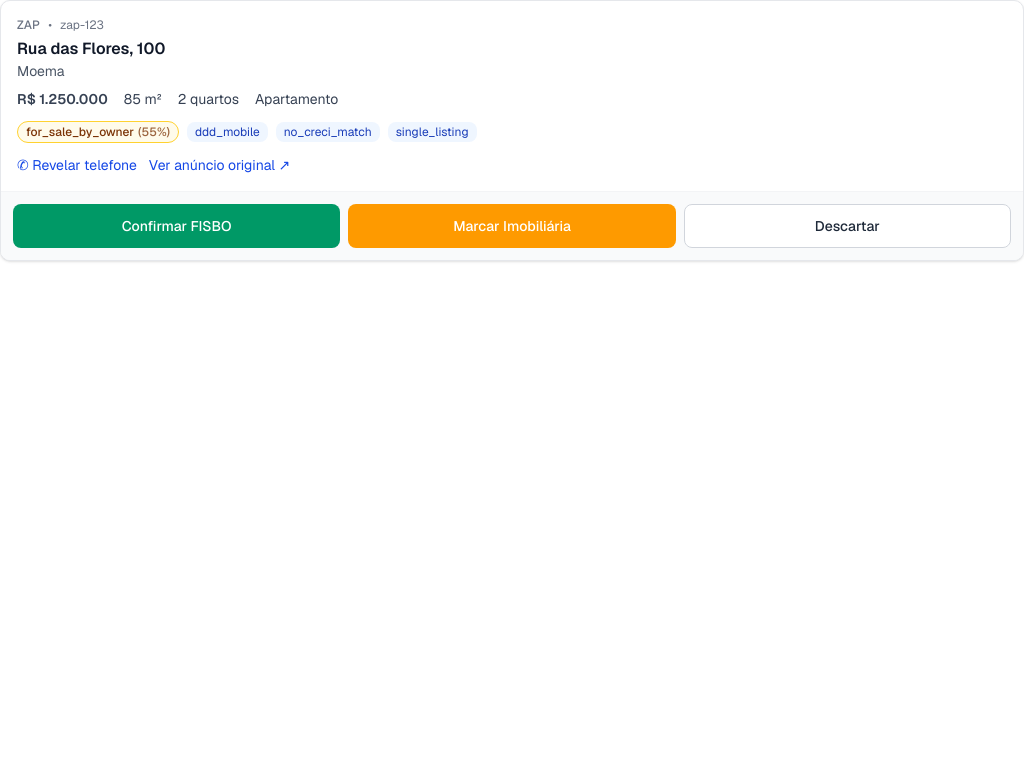
it: ReviewQueueCard — Story 7.8 AC3/AC4 › opens reveal-phone modal on click (AC3 LGPD gate)
Click the button "✆ Revelar telefone" at [77, 165], box left=17, top=155, right=137, bottom=175
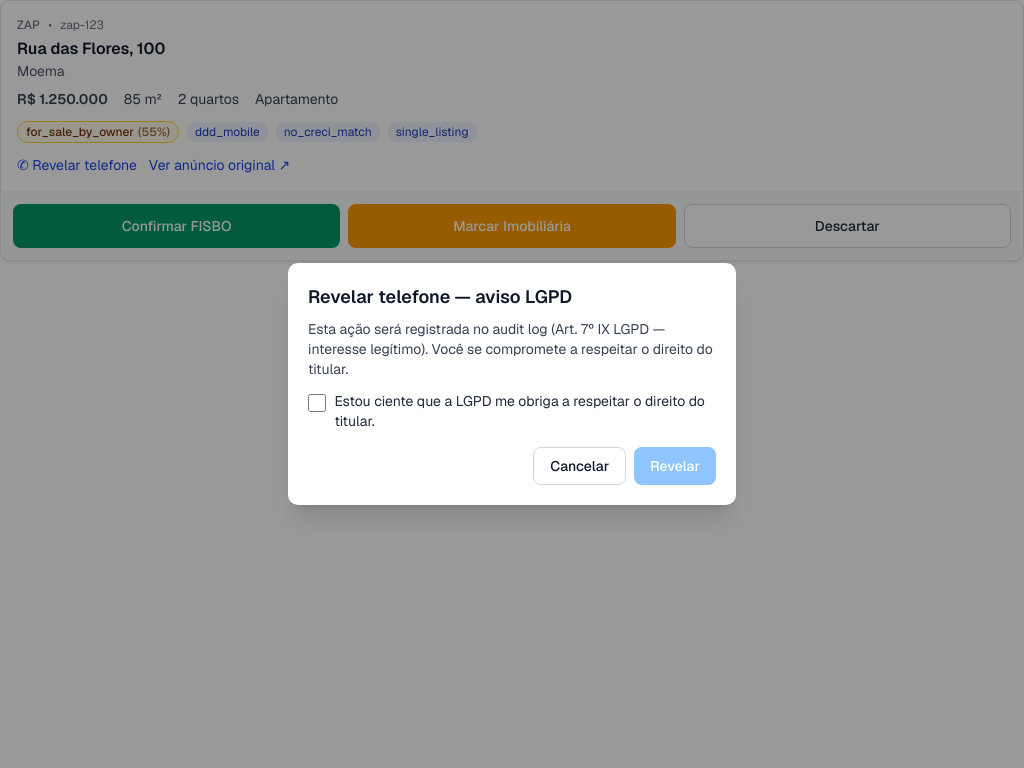
Expected: the dialog with test id "reveal-modal" is shown
Expected: the heading "Revelar telefone — aviso LGPD" is shown, left=308, top=285, right=572, bottom=308
